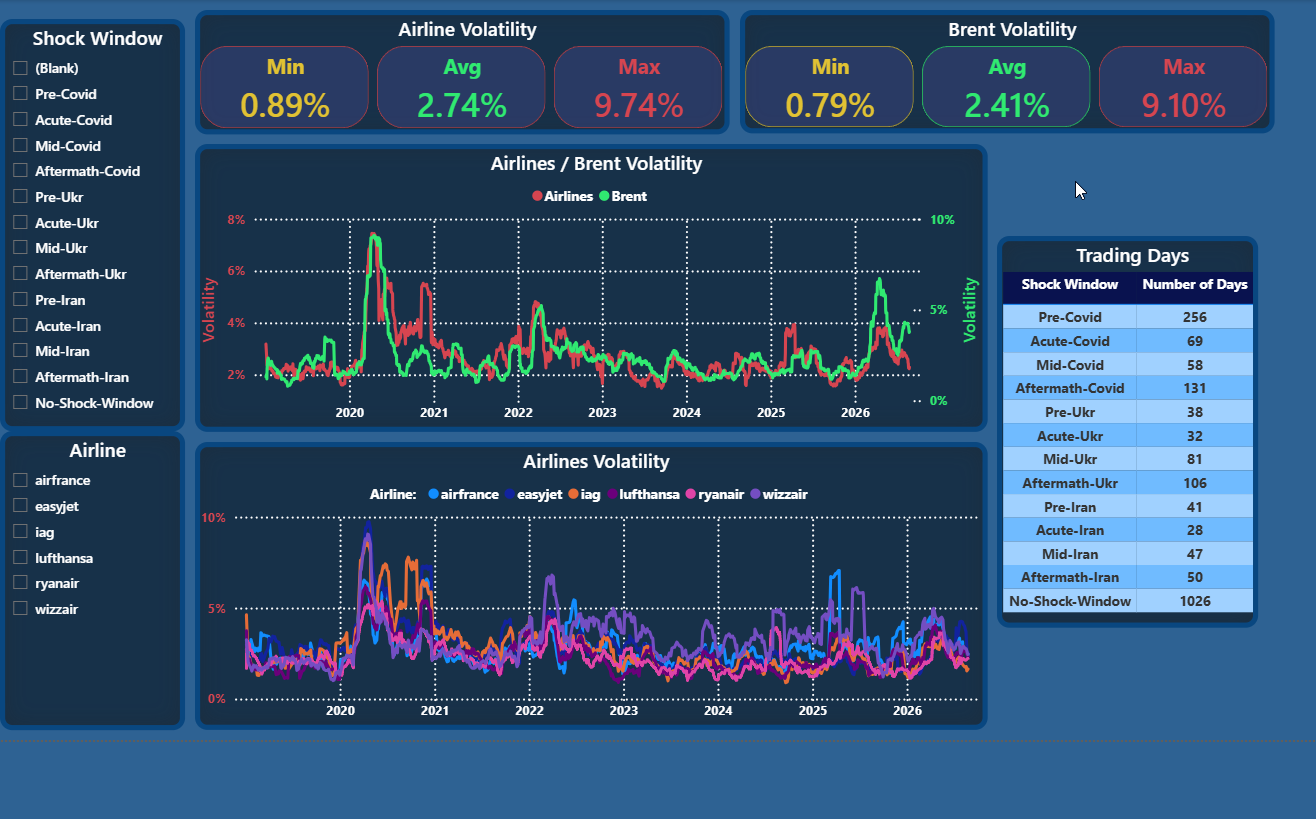

What the dashboard file says about the page in this screenshot:
{"tool":"powerbi","page":{"name":"Volatility","canvas":[1280,720],"ordinal":0},"visuals":[{"type":"slicer","title":"Shock Window","fields":{"Values":["periods_sorted_order.period_name"]},"box":[0,18.5,179.9,400.7],"z":0},{"type":"slicer","title":"Airline","fields":{"Values":["vw_airline_vol_30d.name"]},"box":[0,419.5,180.1,291],"z":1000},{"type":"cardVisual","title":"Airline Volatility","fields":{"Data":["Min(vw_airline_vol_30d.vol_30d)","Avg(vw_airline_vol_30d.vol_30d)1","Max(vw_airline_vol_30d.vol_30d)2"]},"box":[189.8,9.7,520,120.7],"z":2000},{"type":"cardVisual","title":"Brent Volatility","fields":{"Data":["Min(vw_brent_vol_30d.vol_30d)","Avg(vw_brent_vol_30d.vol_30d)1","Max(vw_brent_vol_30d.vol_30d)2"]},"box":[720,9.7,520,119.7],"z":3000},{"type":"lineChart","title":"Airlines / Brent Volatility","fields":{"Y":["Avg(vw_airline_vol_30d.vol_30d)"],"Category":["dim_date.date"],"Y2":["Sum(vw_brent_vol_30d.vol_30d)"]},"box":[189.8,140.2,770.9,280],"z":4000},{"type":"tableEx","title":"Trading Days","fields":{"Values":["periods_sorted_order.period_name","dim_date.date"]},"box":[970,229.7,254.1,380.6],"z":5000},{"type":"lineChart","title":"Airlines Volatility","fields":{"Y":["Avg(vw_airline_vol_30d.vol_30d)"],"Category":["dim_date.date"],"Series":["vw_airline_vol_30d.name"]},"box":[189.8,430,770.9,280.3],"z":6000}]}

Visuals, with their boxes on the page's 1280x720 design canvas (x1, y1, x2, y2). These are canvas units, not pixel positions in the 1316x819 screenshot, which may show the page scaled, cropped or inside an application window:
"Shock Window" slicer: left=0, top=18, right=180, bottom=419
"Airline" slicer: left=0, top=420, right=180, bottom=710
"Airline Volatility" cardVisual: left=190, top=10, right=710, bottom=130
"Brent Volatility" cardVisual: left=720, top=10, right=1240, bottom=129
"Airlines / Brent Volatility" lineChart: left=190, top=140, right=961, bottom=420
"Trading Days" tableEx: left=970, top=230, right=1224, bottom=610
"Airlines Volatility" lineChart: left=190, top=430, right=961, bottom=710
